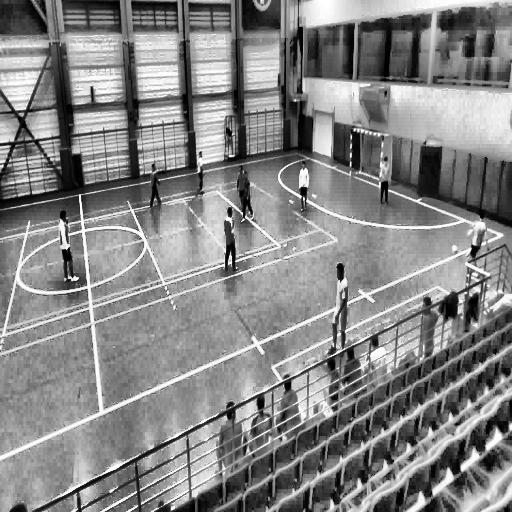ball: (451, 242, 459, 259)
player: (467, 206, 491, 280), (58, 208, 79, 283), (331, 264, 348, 353), (222, 206, 237, 274), (240, 170, 255, 224), (377, 154, 390, 205), (236, 164, 248, 214), (149, 163, 162, 208), (299, 160, 309, 212), (196, 149, 205, 194)
